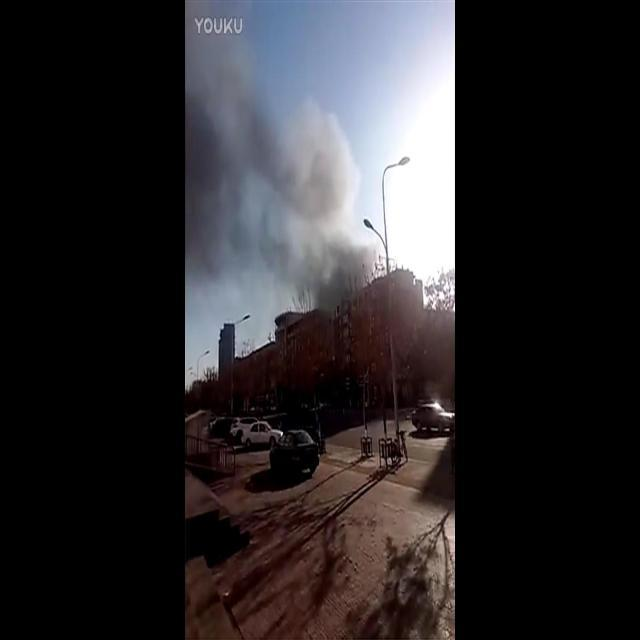Smoke: (184, 1, 378, 320)
